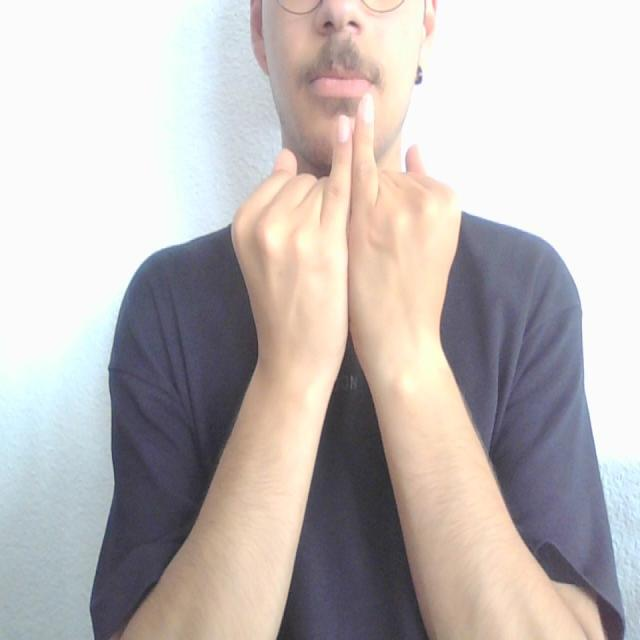Kardes: (230, 85, 462, 363)
